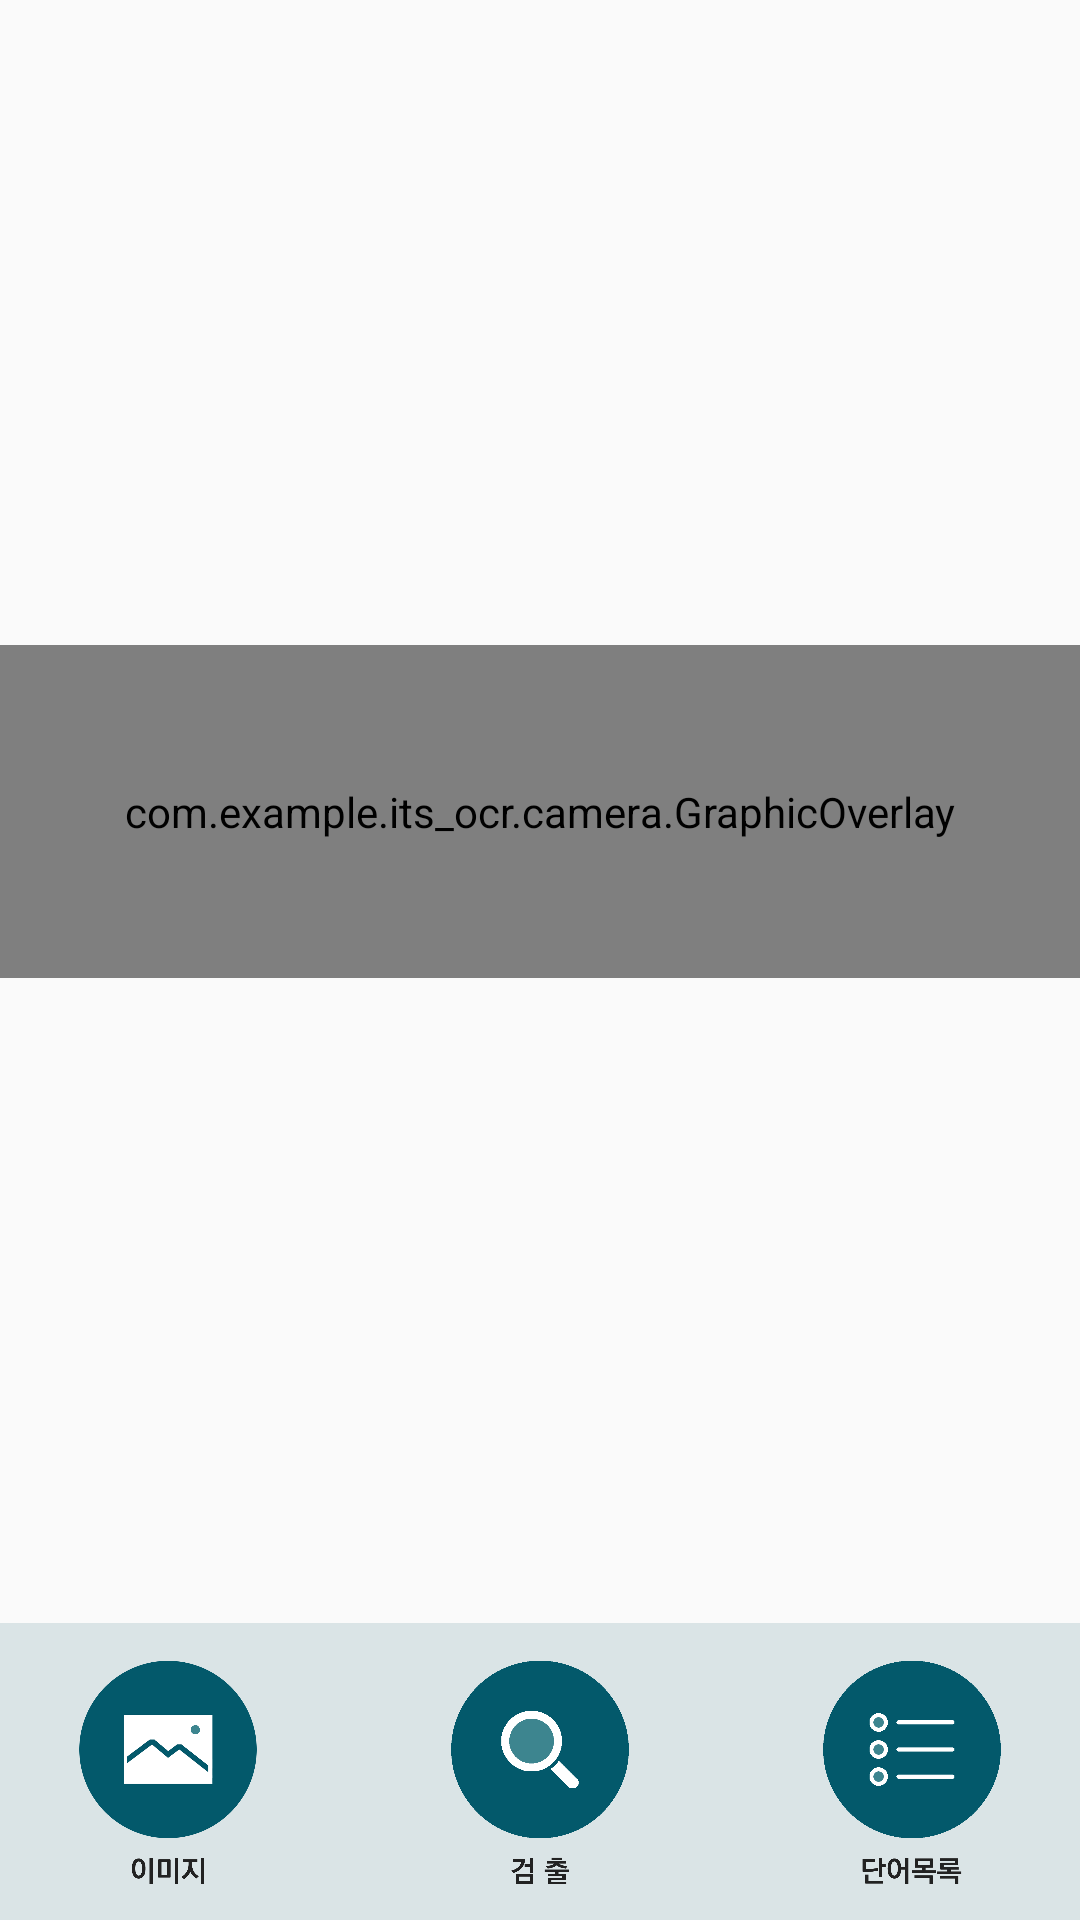

Where to tap for icons on this 1080 x 1920 app screen, as [x,y]:
btnmagnifying: [540,1772]
